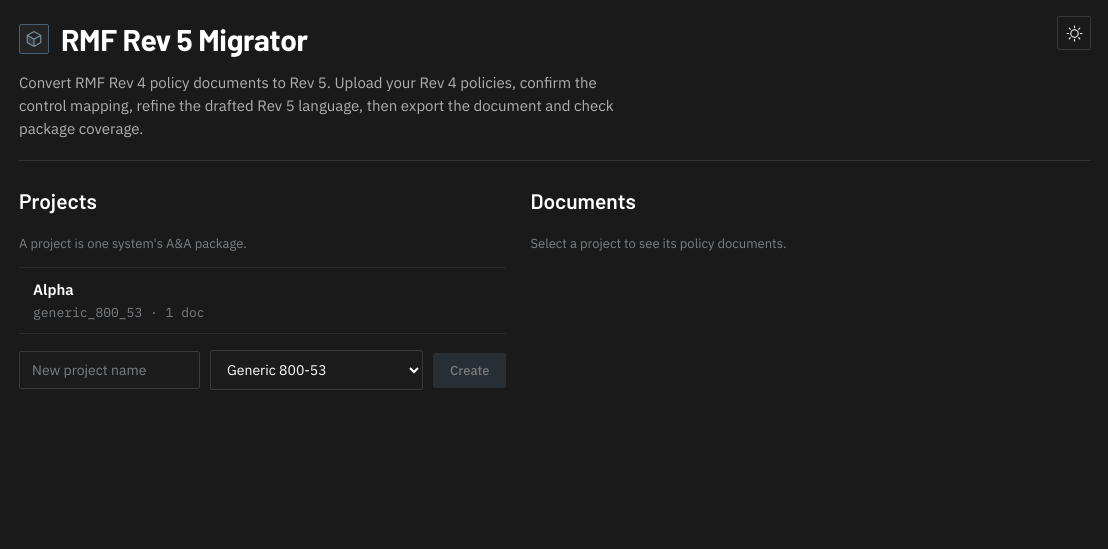
Failed document reasons › covers damaged files in the size-limit wording
Click the button "Alpha generic_800_53 · 1 doc" at (53, 289), box [19, 268, 506, 333]
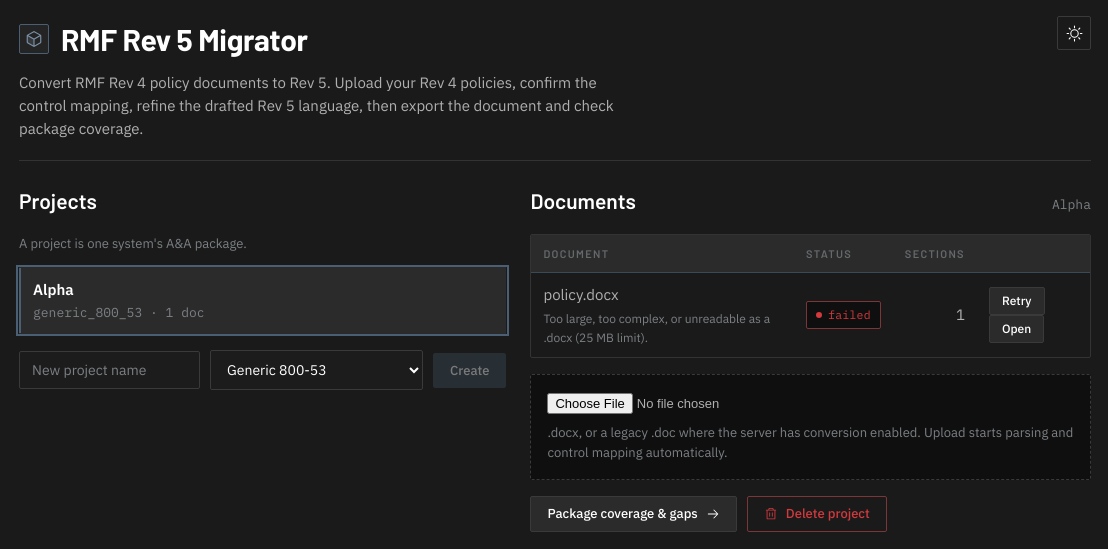
Expected: the text "unreadable as a .docx" is shown, [543, 311, 770, 345]
